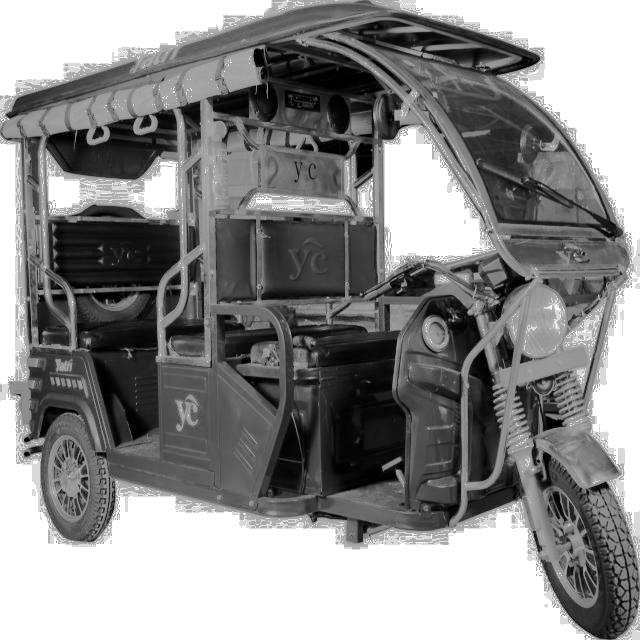Toto: (8, 9, 640, 637)
